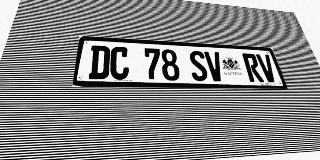7: (143, 48, 162, 80)
8: (160, 49, 180, 81)
C: (109, 46, 129, 80)
D: (88, 45, 110, 79)
R: (242, 53, 264, 82)
S: (188, 50, 209, 81)
V: (256, 54, 279, 82), (204, 51, 225, 81)
